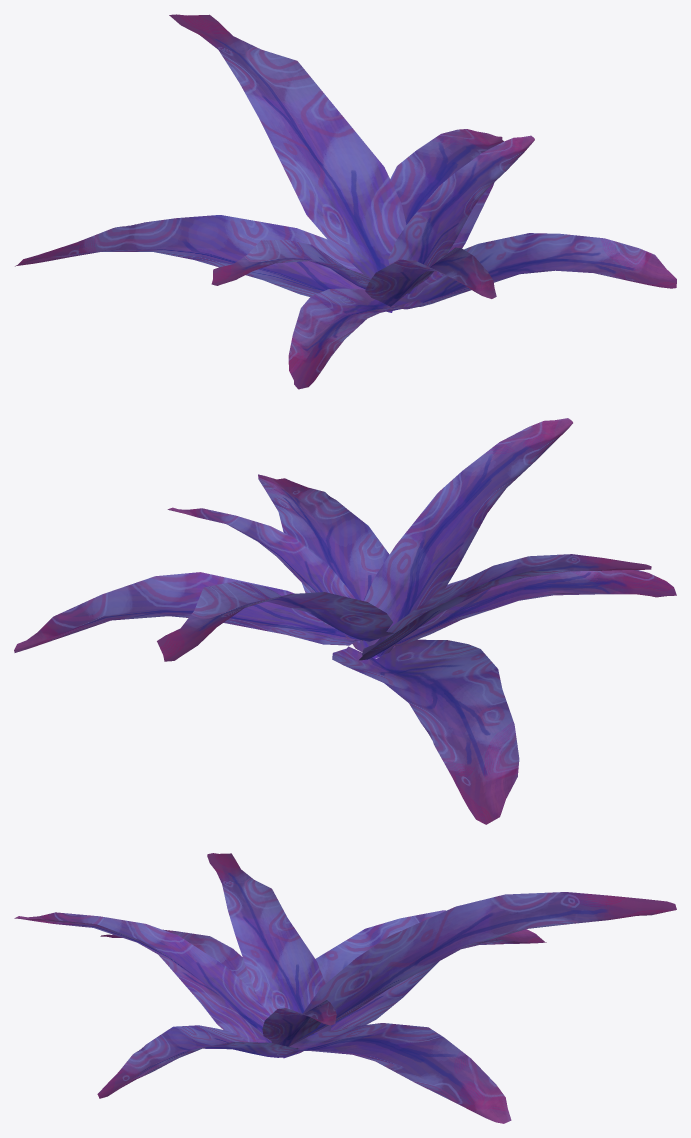
The model's file is touffe_rose1.fbx.
3 views of the same model, one above another, from view 1: azimuth 30°, elevation 25°; view 2: azimuth 150°, elevation 25°; view 3: azimuth 270°, elevation 25° (orthographic). The views are drawn at different scales.
Visible parts, largest first — view 1: Plane.069, Plane.068, Plane.072, Plane.075, Plane.071, Plane.070, Plane.074, Plane.073; view 2: Plane.068, Plane.074, Plane.070, Plane.072, Plane.069, Plane.071, Plane.073, Plane.075; view 3: Plane.069, Plane.073, Plane.070, Plane.074, Plane.068, Plane.072, Plane.071, Plane.075.
Boxes of the visible parts, left/top/right/bottom form: Plane.069: left=169, top=14, right=406, bottom=278; Plane.068: left=15, top=215, right=392, bottom=312; Plane.072: left=388, top=233, right=676, bottom=311; Plane.075: left=388, top=135, right=534, bottom=293; Plane.071: left=288, top=288, right=425, bottom=389; Plane.070: left=390, top=129, right=503, bottom=294; Plane.074: left=365, top=247, right=496, bottom=306; Plane.073: left=211, top=240, right=370, bottom=289; Plane.068: left=332, top=639, right=519, bottom=824; Plane.074: left=364, top=418, right=572, bottom=656; Plane.070: left=14, top=572, right=363, bottom=652; Plane.072: left=258, top=474, right=395, bottom=658; Plane.069: left=157, top=581, right=394, bottom=661; Plane.071: left=391, top=570, right=676, bottom=646; Plane.073: left=359, top=554, right=651, bottom=660; Plane.075: left=167, top=507, right=355, bottom=598; Plane.069: left=288, top=892, right=676, bottom=1046; Plane.073: left=207, top=853, right=331, bottom=1035; Plane.070: left=277, top=1023, right=511, bottom=1123; Plane.074: left=14, top=912, right=271, bottom=1041; Plane.068: left=283, top=910, right=546, bottom=1058; Plane.072: left=97, top=1025, right=298, bottom=1098; Plane.071: left=100, top=929, right=271, bottom=1042; Plane.075: left=262, top=1000, right=336, bottom=1046.
Bounding box in the file's own units: 224 × 74.07 × 288.
Materials: 1 (1 with a texture image).
